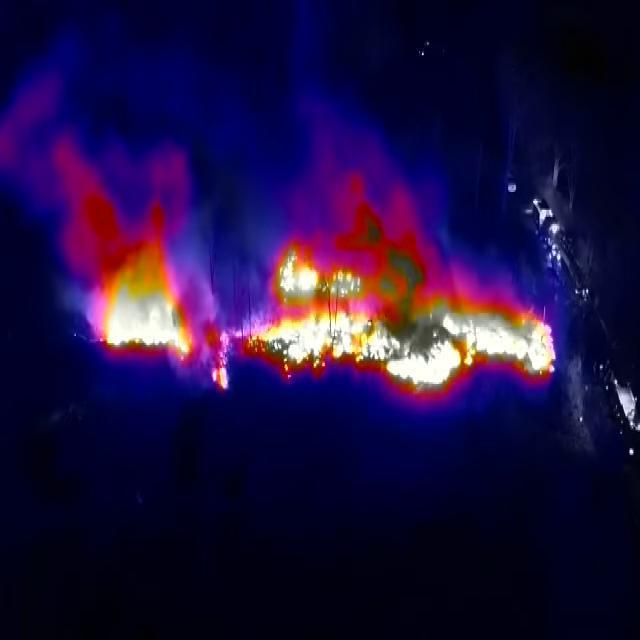fire: (208, 221, 557, 395), (81, 200, 199, 365)
